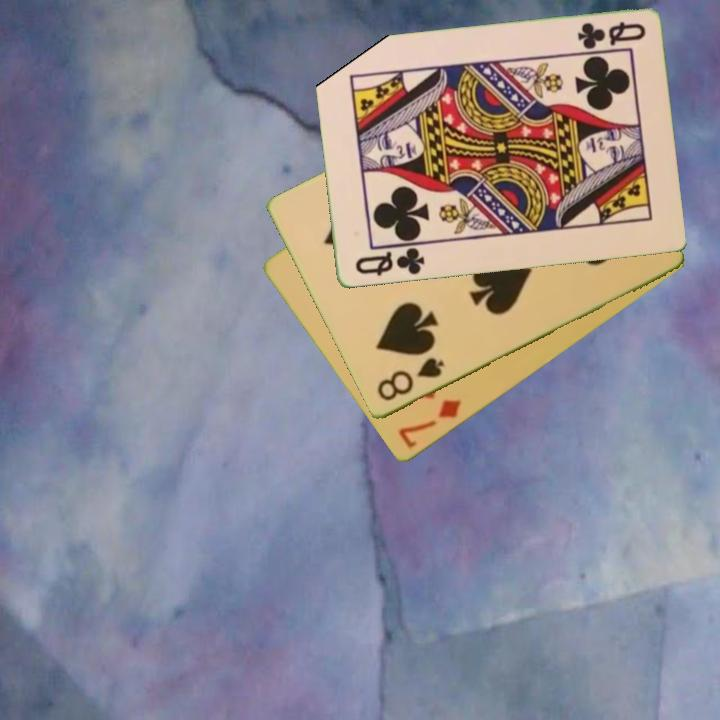7d: (394, 396, 465, 452)
8s: (373, 354, 448, 405)
Qc: (351, 244, 427, 279), (574, 18, 648, 52)
